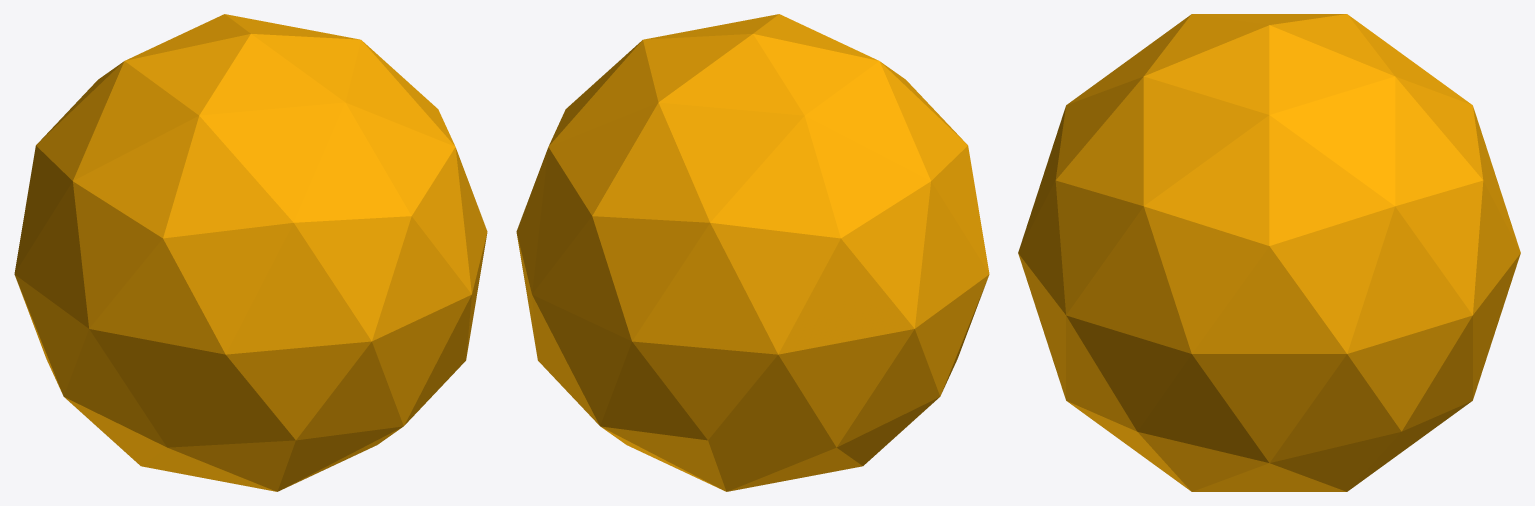
File: Enemy2.obj
The picture shows the model from 3 angles, left to right: view 1: azimuth 30°, elevation 25°; view 2: azimuth 150°, elevation 25°; view 3: azimuth 270°, elevation 25°; orthographic projection. The views are drawn at different scales.
Parts seen in each view (by area): view 1: ICO球; view 2: ICO球; view 3: ICO球.
Part boxes in pixels (box(x1,y1,x2,y2)): ICO球: box(14, 14, 487, 491); ICO球: box(516, 14, 989, 491); ICO球: box(1018, 14, 1520, 491).
Bounding box in the file's own units: 1.9 × 2 × 2.
